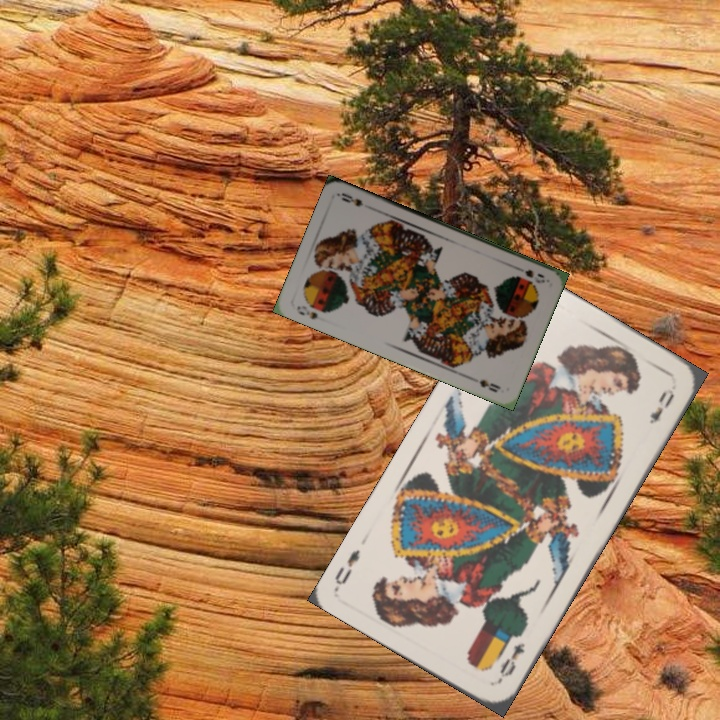EO: (494, 639, 528, 685)
SO: (293, 302, 320, 322), (521, 266, 547, 286)
